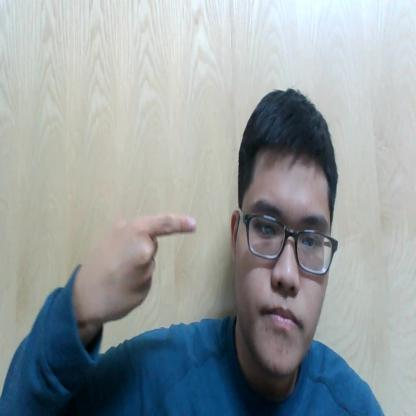left: (85, 200, 199, 326)
